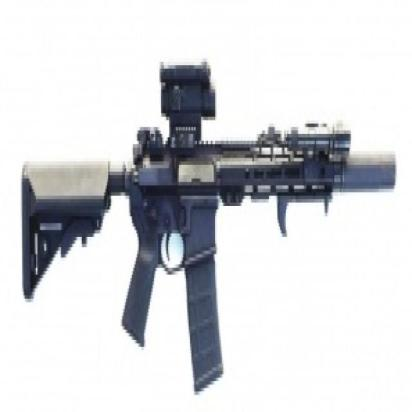Gun: (23, 60, 397, 400)
